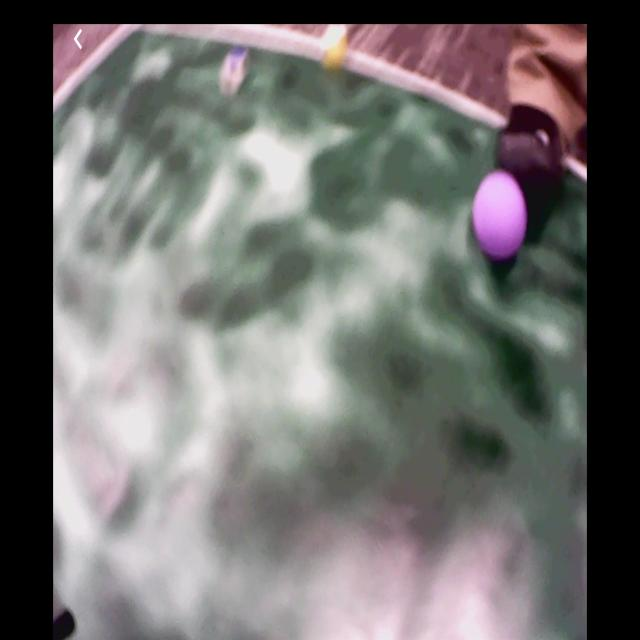ball: (475, 173, 526, 259)
